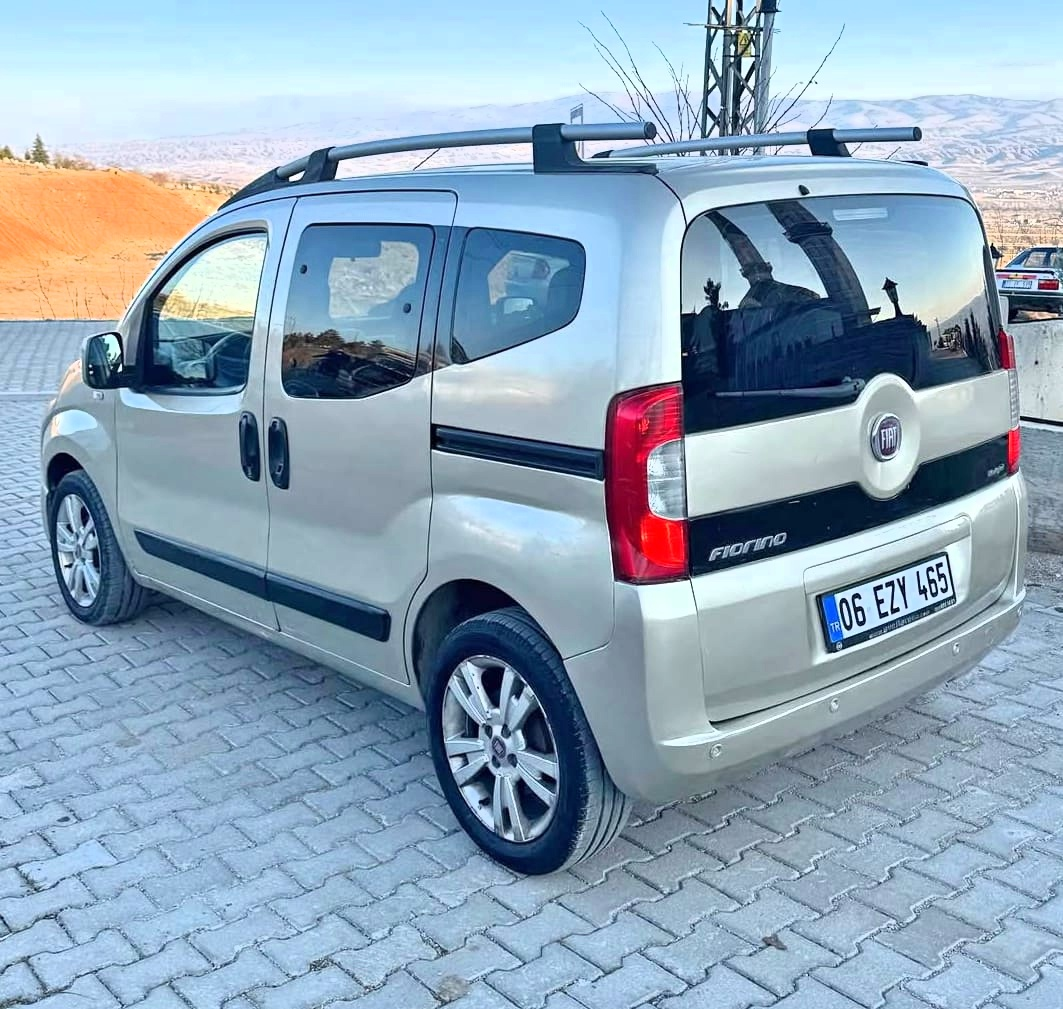plaka: (839, 551, 967, 635)
